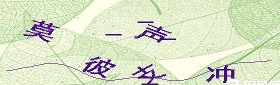chinese: (26, 16, 56, 46), (86, 53, 115, 79), (136, 21, 166, 44), (206, 64, 238, 85), (133, 62, 162, 85)
